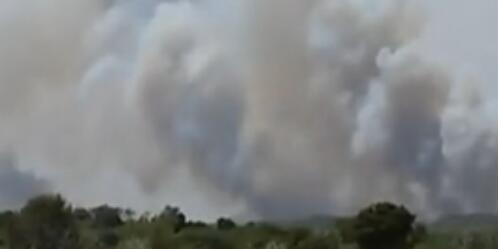yanwu: (4, 1, 496, 210)
